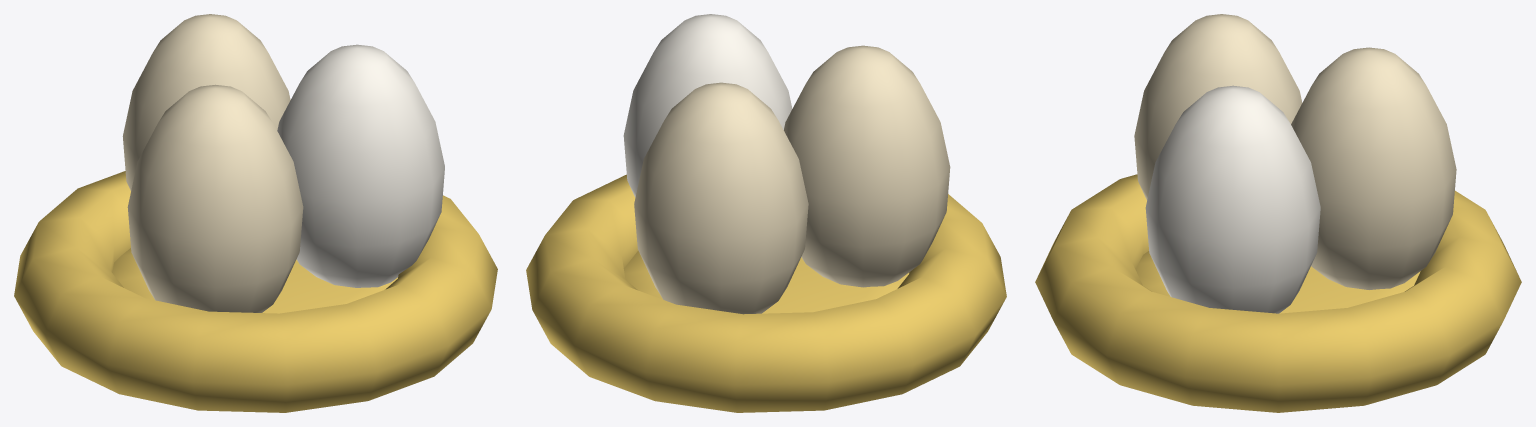
Rendered from eggs.glb.
The picture shows the model from 3 angles, left to right: view 1: azimuth 30°, elevation 25°; view 2: azimuth 150°, elevation 25°; view 3: azimuth 270°, elevation 25°; orthographic projection.
Visible parts, largest first — view 1: item; view 2: item; view 3: item.
Part boxes in pixels (left/top/right/bottom): item: left=14, top=14, right=497, bottom=412; item: left=526, top=14, right=1006, bottom=412; item: left=1035, top=14, right=1521, bottom=412.
Bounding box in the file's own units: 0.43 × 0.2689 × 0.43.
1 material, 1 textured.
